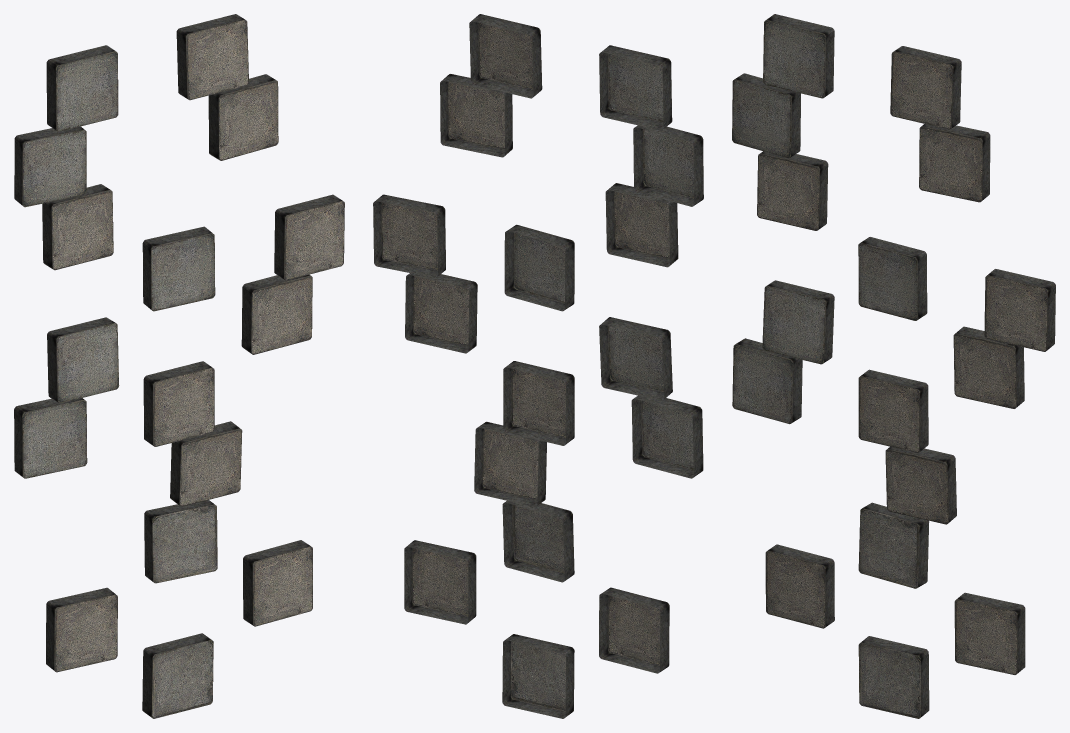
Rendered from hd_dec_UNI_003_PavingDirected_vertical_05.glb.
3 renders of one model, left to right at view 1: azimuth 30°, elevation 25°; view 2: azimuth 150°, elevation 25°; view 3: azimuth 330°, elevation 25°, orthographic. The views are drawn at different scales.
Visible parts, largest first — view 1: set_0_group_0; view 2: set_0_group_0; view 3: set_0_group_0.
Part boxes in pixels (x1,y1,x2,y2): set_0_group_0: (14, 14, 344, 718); set_0_group_0: (373, 14, 703, 718); set_0_group_0: (732, 14, 1055, 718).
Size of the model in its own units: 2.49 by 4.99 by 0.1784.
Materials: 1 (1 with a texture image).
